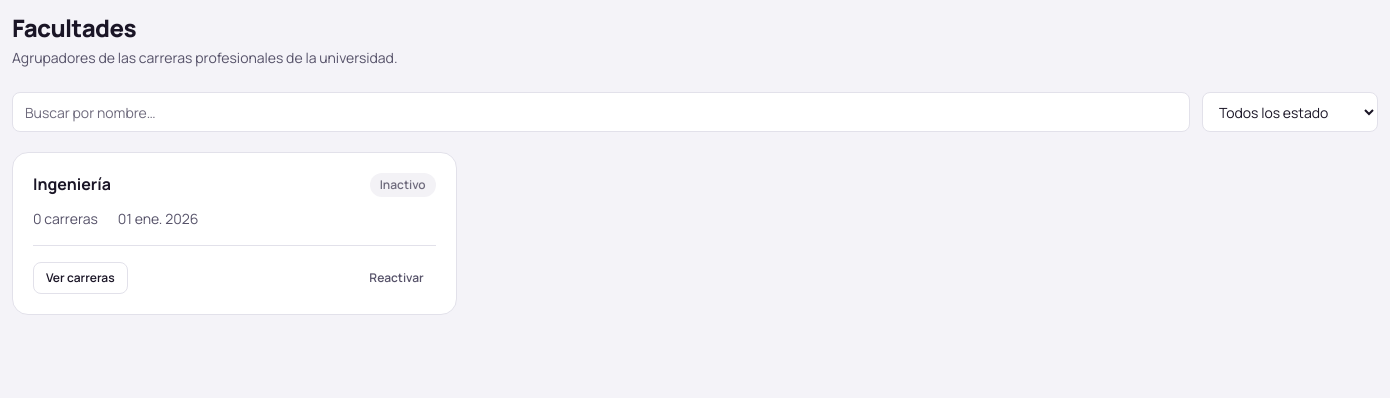
Test case: FacultadesPage — Inactivar y Reactivar (RF-CH-023) › si el servidor rechaza la reactivación, muestra su motivo
What coordinates should you click on to do the following:
click the button "Reactivar"
I would click on:
 (396, 278)
Its box is [357,262,436,294].
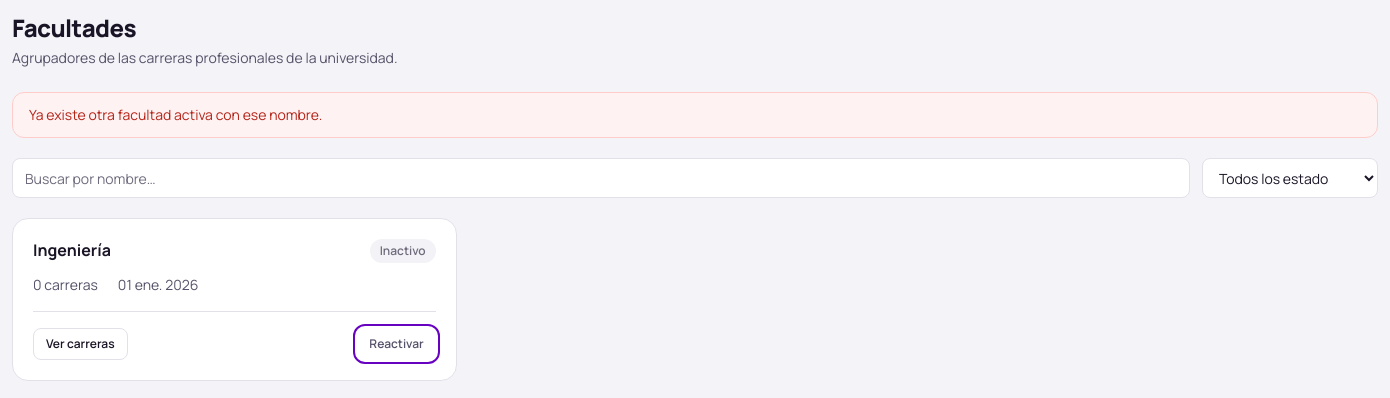
Expected: the text "Ya existe otra facultad activa con ese nombre." is shown, [12,92,1378,138]
